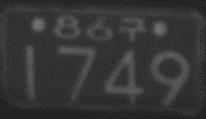1: (14, 44, 49, 99)
4: (104, 47, 144, 104)
6: (85, 15, 113, 42)
7: (57, 44, 96, 102)
8: (53, 14, 81, 40)
9: (149, 49, 191, 107)
구: (118, 16, 146, 41)
